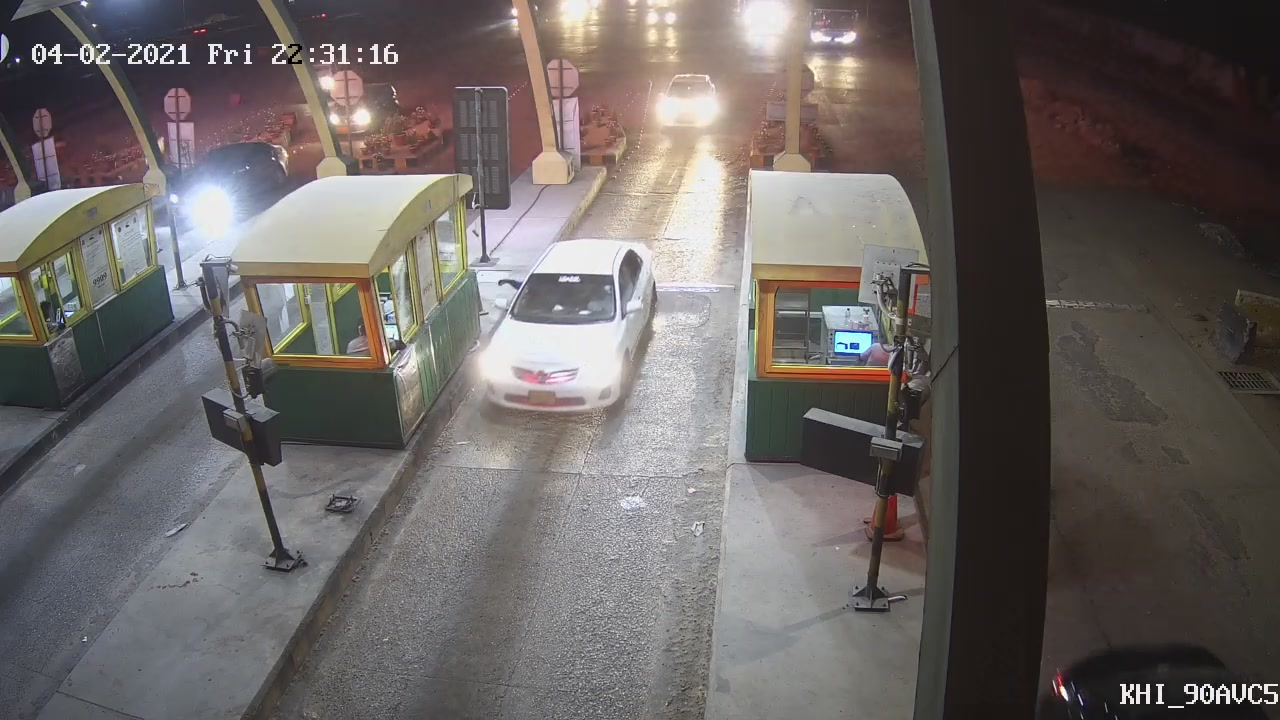F1: (470, 233, 665, 415)
